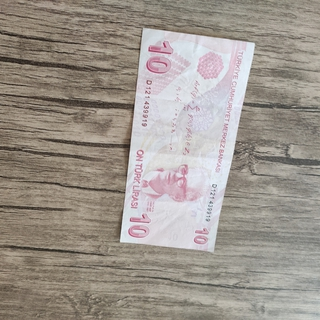10TLBack: (118, 26, 256, 254)
